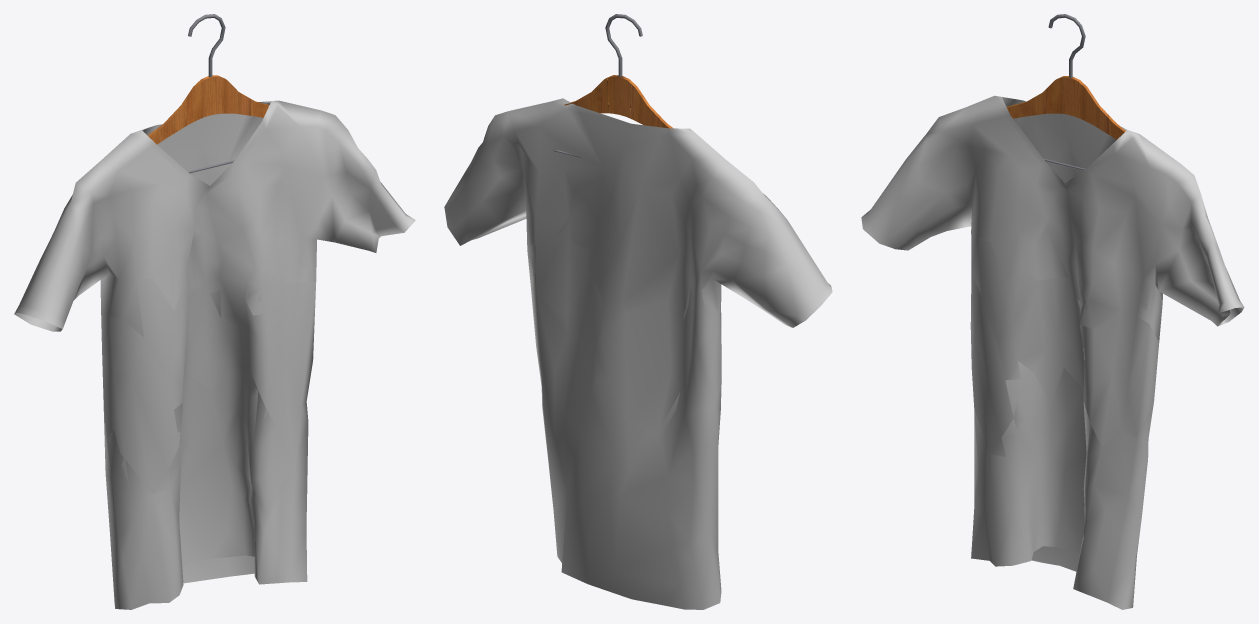
Rendered from T-Shirt.FBX.
The picture shows the model from 3 angles, left to right: view 1: azimuth 30°, elevation 25°; view 2: azimuth 150°, elevation 25°; view 3: azimuth 330°, elevation 25°; orthographic projection.
Parts seen in each view (by area): view 1: T-shirt-1_LOD0, _Hanger-1_LOD0; view 2: T-shirt-1_LOD0, _Hanger-1_LOD0; view 3: T-shirt-1_LOD0, _Hanger-1_LOD0.
Part boxes in pixels (x1,y1,x2,y2): T-shirt-1_LOD0: [14, 100, 415, 609]; _Hanger-1_LOD0: [147, 14, 269, 173]; T-shirt-1_LOD0: [444, 98, 832, 609]; _Hanger-1_LOD0: [553, 14, 672, 157]; T-shirt-1_LOD0: [861, 95, 1244, 609]; _Hanger-1_LOD0: [1006, 14, 1125, 170].
Size of what is drawn, in the model's own units: 48.51 by 8.78 by 69.33.
